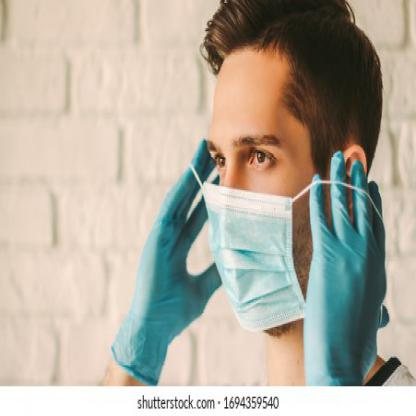glove: (110, 137, 223, 385), (302, 150, 389, 386)
